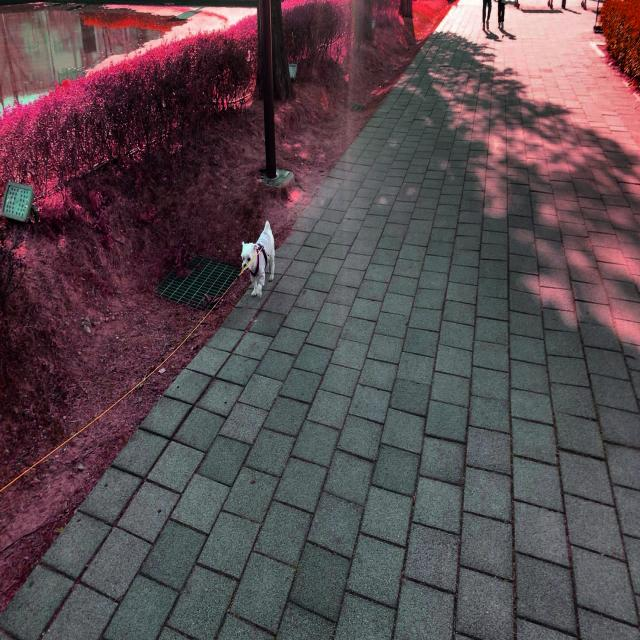Dog: (240, 218, 276, 298)
